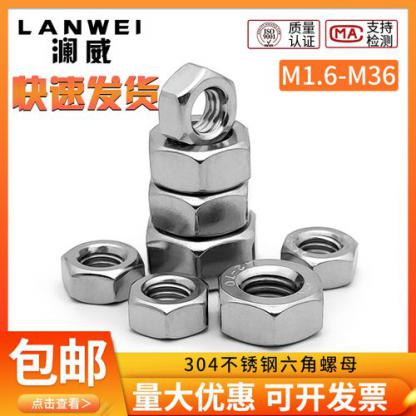FOD: (218, 254, 325, 348), (143, 204, 260, 284), (144, 112, 255, 195), (144, 168, 254, 240), (155, 58, 240, 150), (126, 270, 212, 342), (58, 235, 144, 305), (281, 226, 363, 288)
